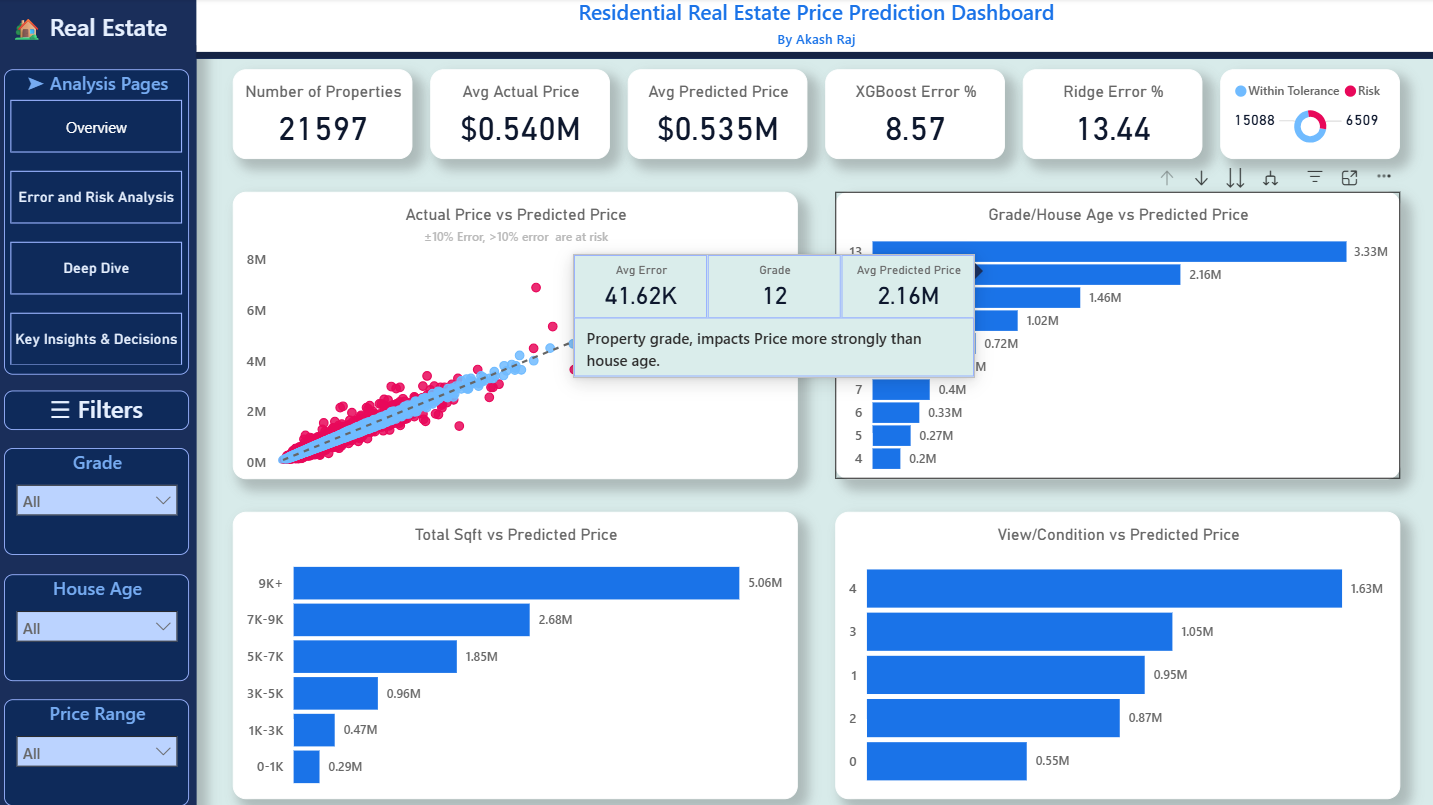

This screenshot's page, from the dashboard's own definition file:
{"tool":"tableau","page":{"name":"Model Reliability & Pricing Confidence","canvas":[1000,1000],"units":"permille","ordinal":1},"visuals":[{"type":"worksheet","title":"Ex-Back","mark":"Automatic","box":[0,0,1000,1000]},{"type":"text","box":[47.4,27.8,902.3,47.2]},{"type":"dashboard-object","box":[54.1,33.3,109.8,38.9]},{"type":"filter","title":"Actual vs Predicted — XGBoost","param":"[federated.0pb6tqq0hun84y1cwjt1z028dbxy].[none:actual_price:qk]","box":[674.4,175,91,98.6]},{"type":"filter","title":"Actual vs Predicted — XGBoost","param":"[federated.0pb6tqq0hun84y1cwjt1z028dbxy].[none:grade:qk]","box":[766.9,175,91,98.6]},{"type":"filter","title":"Ex-Back","param":"[federated.0pb6tqq0hun84y1cwjt1z028dbxy].[none:house_age:qk]","box":[859.4,175,91,98.6]},{"type":"worksheet","title":"KPI Tiles","mark":"Automatic","box":[49.6,176.4,581.2,98.6]},{"type":"blank","box":[166.9,176.4,2.3,97.2]},{"type":"blank","box":[281.9,176.4,2.3,97.2]},{"type":"blank","box":[397,176.4,2.3,97.2]},{"type":"blank","box":[512,176.4,2.3,97.2]},{"type":"worksheet","title":"Actual vs Predicted — XGBoost","mark":"Automatic","rows":["actual_price"],"cols":["xgb_pred_price"],"box":[43.6,419.4,281.2,481.9]},{"type":"worksheet","title":"Actual vs Predicted — Ridge","mark":"Automatic","rows":["actual_price"],"cols":["ridge_pred_price"],"box":[357.1,419.4,279.7,481.9]},{"type":"worksheet","title":"Total Sqft vs Predicted Price","mark":"Bar","rows":["Calculation_0555552130994176"],"cols":["xgb_pred_price"],"box":[671.4,419.4,280.4,481.9]},{"type":"text","box":[214.3,438.9,85.7,41.7]},{"type":"legend","title":"Total Sqft vs Predicted Price","param":"[federated.0pb6tqq0hun84y1cwjt1z028dbxy].[none:Calculation_0458520059084800:nk]","box":[209,833.3,112.8,58.3]}]}

Visuals, with their boxes on the dashboard's canvas, which has no fixed pixel size, in thousandths of its width and height (x1, y1, x2, y2). These are canvas units, not pixel positions in the 1433x805 screenshot, which may show the page scaled, cropped or inside an application window:
"Ex-Back" worksheet: box(0, 0, 1000, 1000)
text: box(47, 28, 950, 75)
dashboard-object: box(54, 33, 164, 72)
"Actual vs Predicted — XGBoost" filter: box(674, 175, 765, 274)
"Actual vs Predicted — XGBoost" filter: box(767, 175, 858, 274)
"Ex-Back" filter: box(859, 175, 950, 274)
"KPI Tiles" worksheet: box(50, 176, 631, 275)
blank: box(167, 176, 169, 274)
blank: box(282, 176, 284, 274)
blank: box(397, 176, 399, 274)
blank: box(512, 176, 514, 274)
"Actual vs Predicted — XGBoost" worksheet: box(44, 419, 325, 901)
"Actual vs Predicted — Ridge" worksheet: box(357, 419, 637, 901)
"Total Sqft vs Predicted Price" worksheet (Bar marks): box(671, 419, 952, 901)
text: box(214, 439, 300, 481)
"Total Sqft vs Predicted Price" legend: box(209, 833, 322, 892)
